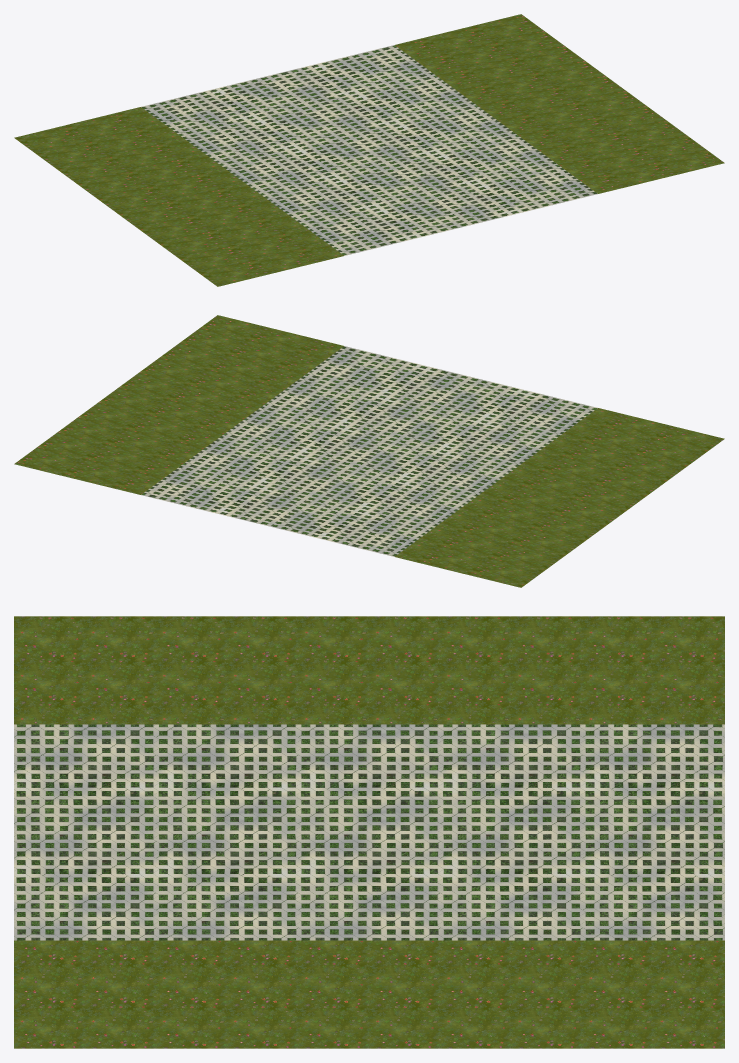
Rendered from Plano_terra.FBX.
3 views of the same model, one above another, from view 1: azimuth 30°, elevation 25°; view 2: azimuth 150°, elevation 25°; view 3: azimuth 270°, elevation 25° (orthographic). The views are drawn at different scales.
Parts seen in each view (by area): view 1: Plane001; view 2: Plane001; view 3: Plane001.
Part boxes in pixels (x1,y1,x2,y2): Plane001: [14, 14, 724, 286]; Plane001: [14, 315, 724, 587]; Plane001: [14, 616, 724, 1048].
Size of the model in its own units: 1849 by 7.82e-14 by 1286.
1 material, 1 textured.
